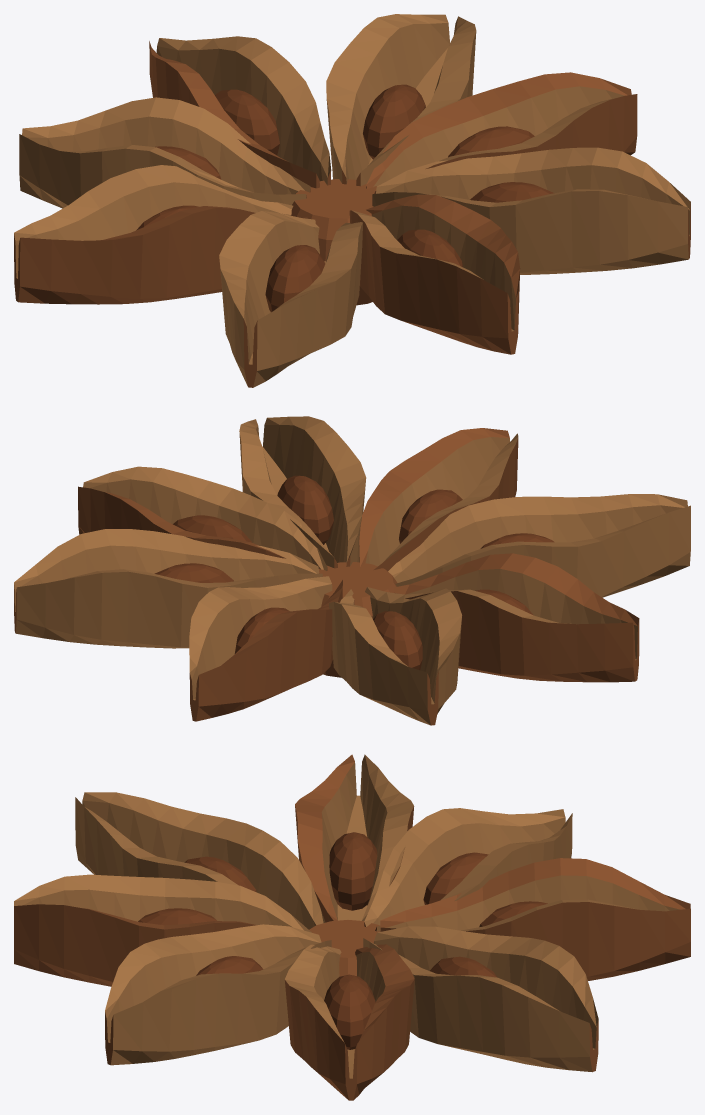
The picture shows the model from 3 angles, top to bottom: view 1: azimuth 30°, elevation 25°; view 2: azimuth 150°, elevation 25°; view 3: azimuth 270°, elevation 25°; orthographic projection. The views are drawn at different scales.
Visible parts, largest first — view 1: WholeBoatFollicle_05, WholeBoatFollicle_08, WholeBoatFollicle_07, WholeBoatFollicle_04, WholeBoatFollicle_06, WholeBoatFollicle_01, WholeBoatFollicle_02, WholeBoatFollicle_03, WholeLowWoodyCentralAxis, WholeCompressedSeed_02, WholeCompressedSeed_06, WholeCompressedSeed_03 (+4 smaller); view 2: WholeBoatFollicle_02, WholeBoatFollicle_05, WholeBoatFollicle_06, WholeBoatFollicle_03, WholeBoatFollicle_01, WholeBoatFollicle_04, WholeBoatFollicle_07, WholeBoatFollicle_08, WholeLowWoodyCentralAxis, WholeCompressedSeed_08, WholeCompressedSeed_04, WholeCompressedSeed_07 (+4 smaller); view 3: WholeBoatFollicle_02, WholeBoatFollicle_08, WholeBoatFollicle_03, WholeBoatFollicle_07, WholeBoatFollicle_06, WholeBoatFollicle_01, WholeBoatFollicle_04, WholeBoatFollicle_05, WholeCompressedSeed_05, WholeCompressedSeed_01, WholeLowWoodyCentralAxis, WholeCompressedSeed_04 (+5 smaller).
Boxes of the visible parts, bbox=[...] form: WholeBoatFollicle_05: bbox=[14, 165, 307, 304]; WholeBoatFollicle_08: bbox=[372, 147, 690, 274]; WholeBoatFollicle_07: bbox=[349, 194, 520, 354]; WholeBoatFollicle_04: bbox=[19, 97, 310, 208]; WholeBoatFollicle_06: bbox=[219, 211, 362, 387]; WholeBoatFollicle_01: bbox=[366, 72, 637, 193]; WholeBoatFollicle_02: bbox=[326, 14, 476, 186]; WholeBoatFollicle_03: bbox=[149, 36, 331, 188]; WholeLowWoodyCentralAxis: bbox=[291, 179, 376, 305]; WholeCompressedSeed_02: bbox=[363, 84, 425, 159]; WholeCompressedSeed_06: bbox=[265, 245, 325, 312]; WholeCompressedSeed_03: bbox=[215, 89, 279, 155]; WholeBoatFollicle_02: bbox=[14, 529, 322, 648]; WholeBoatFollicle_05: bbox=[393, 553, 639, 682]; WholeBoatFollicle_06: bbox=[388, 494, 690, 597]; WholeBoatFollicle_03: bbox=[189, 576, 342, 721]; WholeBoatFollicle_01: bbox=[78, 466, 327, 573]; WholeBoatFollicle_04: bbox=[329, 587, 462, 725]; WholeBoatFollicle_07: bbox=[359, 428, 518, 571]; WholeBoatFollicle_08: bbox=[239, 416, 366, 568]; WholeLowWoodyCentralAxis: bbox=[319, 562, 397, 677]; WholeCompressedSeed_08: bbox=[277, 475, 333, 544]; WholeCompressedSeed_04: bbox=[373, 611, 422, 670]; WholeCompressedSeed_07: bbox=[399, 489, 462, 543]; WholeBoatFollicle_02: bbox=[363, 926, 598, 1072]; WholeBoatFollicle_08: bbox=[105, 924, 331, 1065]; WholeBoatFollicle_03: bbox=[380, 858, 690, 980]; WholeBoatFollicle_07: bbox=[14, 874, 311, 986]; WholeBoatFollicle_06: bbox=[75, 792, 325, 929]; WholeBoatFollicle_01: bbox=[284, 944, 414, 1100]; WholeBoatFollicle_04: bbox=[364, 808, 572, 931]; WholeBoatFollicle_05: bbox=[295, 754, 414, 922]; WholeCompressedSeed_05: bbox=[329, 832, 377, 910]; WholeCompressedSeed_01: bbox=[324, 974, 375, 1049]; WholeLowWoodyCentralAxis: bbox=[309, 920, 380, 976]; WholeCompressedSeed_04: bbox=[423, 852, 488, 904].
Size of the model in its own units: 0.0375 by 0.00844 by 0.0375.
